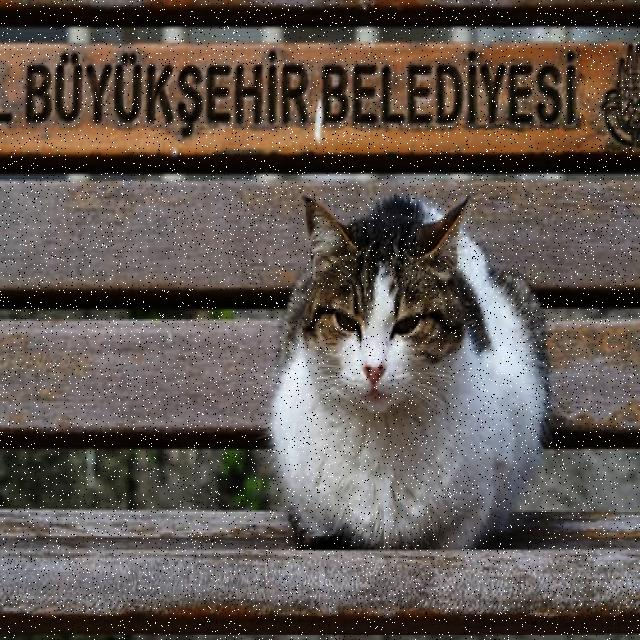cat: (271, 197, 549, 548)
